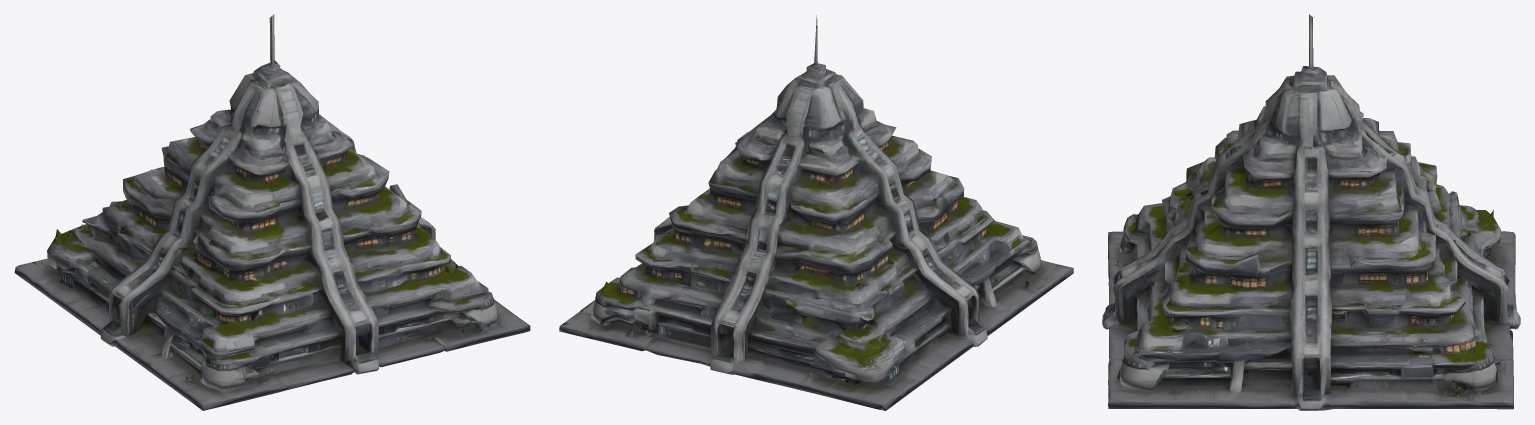
Rendered from arcology.glb.
3 renders of one model, left to right at view 1: azimuth 30°, elevation 25°; view 2: azimuth 150°, elevation 25°; view 3: azimuth 270°, elevation 25°, orthographic. The views are drawn at different scales.
Parts seen in each view (by area): view 1: tripo_node_0fed2178-2e80-4dec-b1e2-28c0ab108821; view 2: tripo_node_0fed2178-2e80-4dec-b1e2-28c0ab108821; view 3: tripo_node_0fed2178-2e80-4dec-b1e2-28c0ab108821.
Boxes of the visible parts, <box> form: tripo_node_0fed2178-2e80-4dec-b1e2-28c0ab108821: <box>14,14,530,410</box>; tripo_node_0fed2178-2e80-4dec-b1e2-28c0ab108821: <box>559,15,1073,410</box>; tripo_node_0fed2178-2e80-4dec-b1e2-28c0ab108821: <box>1102,14,1520,410</box>.
Size of the model in its own units: 0.9944 by 0.8176 by 1.
1 material, 1 textured.
